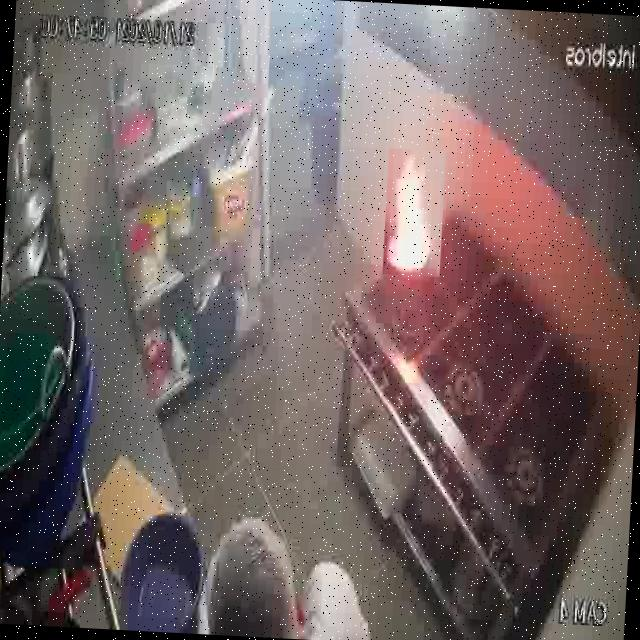fire: (382, 148, 446, 278)
